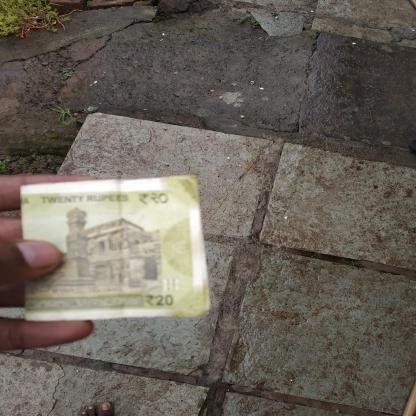New20Back: (14, 188, 198, 314)
